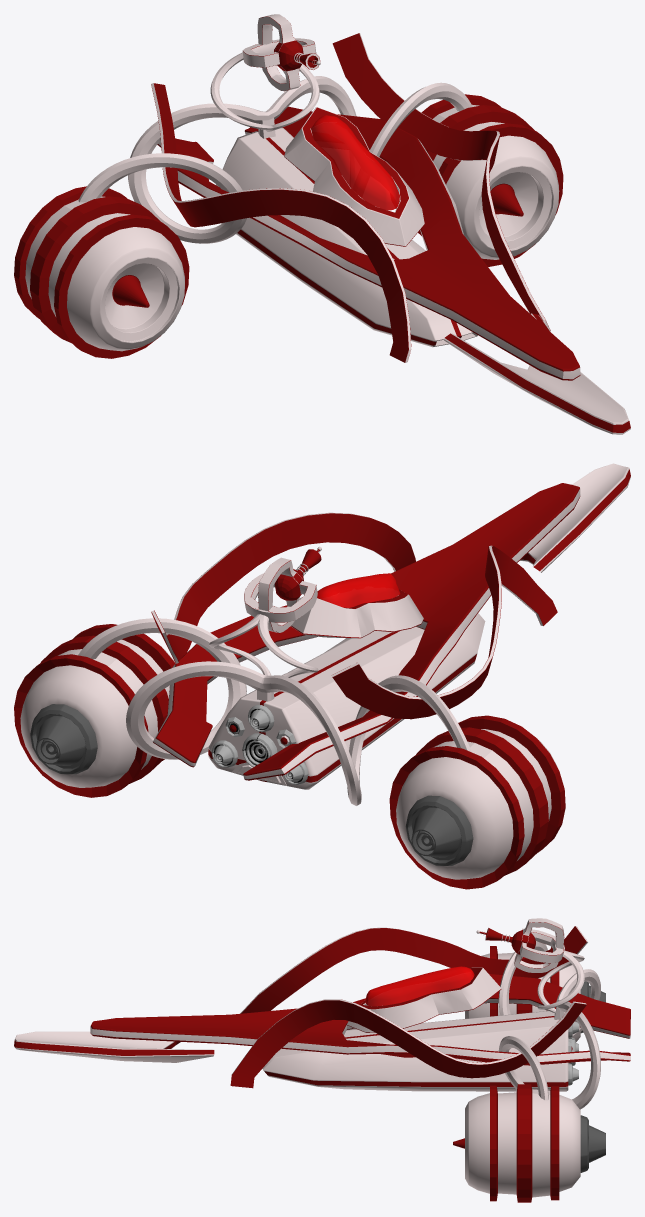
Rendered from Vehicle_001_Color.fbx.
The picture shows the model from 3 angles, top to bottom: view 1: azimuth 30°, elevation 25°; view 2: azimuth 150°, elevation 25°; view 3: azimuth 270°, elevation 25°; orthographic projection. The views are drawn at different scales.
Parts seen in each view (by area): view 1: M1_JetEngineRight, M1_TopPiece, M1_JetEngineLeft, M1_Base, M1_HelixCord, M1_RibbonRight, M1_RibbonLeft, M1_SeatBorder, M1_TopPiece1, M1_SeatGlass, M1_TetherBeam, M1_HelixHook; view 2: M1_TopPiece, M1_JetEngineRight, M1_JetEngineLeft, M1_Base, M1_HelixCord, M1_RibbonLeft, M1_RibbonRight, M1_SeatBorder, M1_TopPiece1, M1_TetherBeam, M1_JetExhaustLeft, M1_JetExhaustRight (+4 smaller); view 3: M1_Base, M1_JetEngineLeft, M1_TopPiece, M1_RibbonLeft, M1_RibbonRight, M1_TopPiece1, M1_HelixCord, M1_SeatBorder, M1_TetherBeam, M1_SeatGlass, M1_JetEngineRight, M1_JetExhaustLeft (+1 smaller).
Part boxes in pixels (bbox=[...]): M1_JetEngineRight: bbox=[14, 186, 189, 358]; M1_TopPiece: bbox=[157, 106, 580, 380]; M1_JetEngineLeft: bbox=[395, 94, 563, 266]; M1_Base: bbox=[215, 127, 477, 347]; M1_HelixCord: bbox=[78, 76, 472, 243]; M1_RibbonRight: bbox=[151, 83, 411, 362]; M1_RibbonLeft: bbox=[332, 33, 550, 331]; M1_SeatBorder: bbox=[284, 107, 424, 246]; M1_TopPiece1: bbox=[443, 313, 630, 434]; M1_SeatGlass: bbox=[311, 115, 399, 210]; M1_TetherBeam: bbox=[242, 14, 320, 91]; M1_HelixHook: bbox=[210, 52, 319, 131]; M1_TopPiece: bbox=[153, 483, 580, 780]; M1_JetEngineRight: bbox=[389, 715, 565, 889]; M1_JetEngineLeft: bbox=[14, 624, 175, 797]; M1_Base: bbox=[208, 613, 485, 789]; M1_HelixCord: bbox=[78, 618, 471, 805]; M1_RibbonLeft: bbox=[151, 512, 415, 663]; M1_RibbonRight: bbox=[331, 545, 557, 719]; M1_SeatBorder: bbox=[291, 589, 423, 638]; M1_TopPiece1: bbox=[520, 463, 630, 572]; M1_TetherBeam: bbox=[244, 546, 321, 633]; M1_JetExhaustLeft: bbox=[30, 704, 97, 774]; M1_JetExhaustRight: bbox=[405, 795, 473, 865]; M1_Base: bbox=[262, 1011, 568, 1091]; M1_JetEngineLeft: bbox=[453, 1084, 580, 1202]; M1_TopPiece: bbox=[90, 974, 630, 1065]; M1_RibbonLeft: bbox=[230, 999, 586, 1088]; M1_RibbonRight: bbox=[240, 926, 587, 1013]; M1_TopPiece1: bbox=[14, 1031, 214, 1062]; M1_HelixCord: bbox=[498, 941, 600, 1109]; M1_SeatBorder: bbox=[346, 967, 501, 1032]; M1_TetherBeam: bbox=[476, 918, 564, 973]; M1_SeatGlass: bbox=[366, 966, 474, 1006]; M1_JetEngineRight: bbox=[465, 946, 580, 1042]; M1_JetExhaustLeft: bbox=[580, 1115, 605, 1172].
Bounding box in the file's own units: 10.99 × 5.59 × 15.09.
